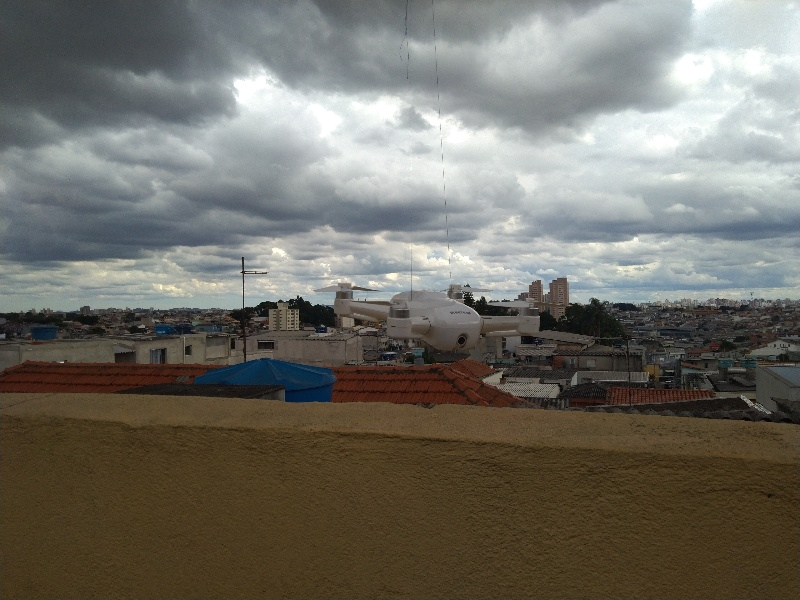drone: (316, 269, 548, 352)
